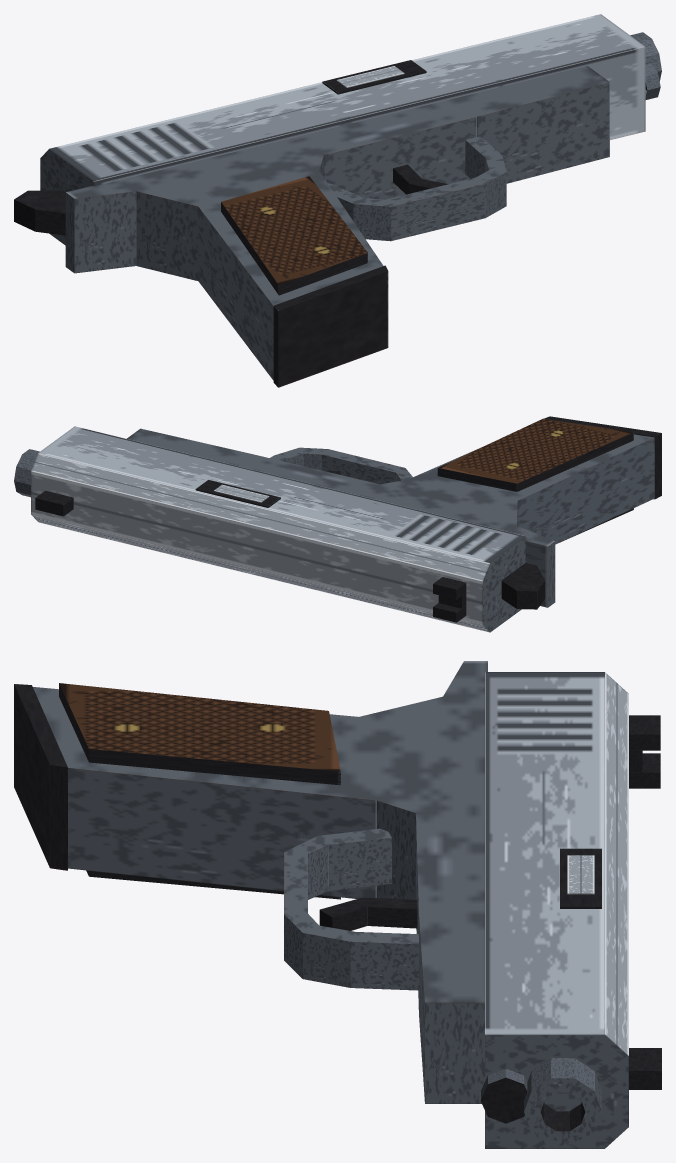
Rendered from Weapon_Pistol.fbx.
3 renders of one model, top to bottom at view 1: azimuth 30°, elevation 25°; view 2: azimuth 150°, elevation 25°; view 3: azimuth 270°, elevation 25°, orthographic. The views are drawn at different scales.
Visible parts, largest first — view 1: Weapon_Pistol; view 2: Weapon_Pistol; view 3: Weapon_Pistol.
Part boxes in pixels (x1,y1,x2,y2): Weapon_Pistol: [14, 14, 661, 387]; Weapon_Pistol: [14, 416, 661, 632]; Weapon_Pistol: [14, 661, 661, 1148].
Size of the model in its own units: 32.6 by 4.7 by 21.6.
